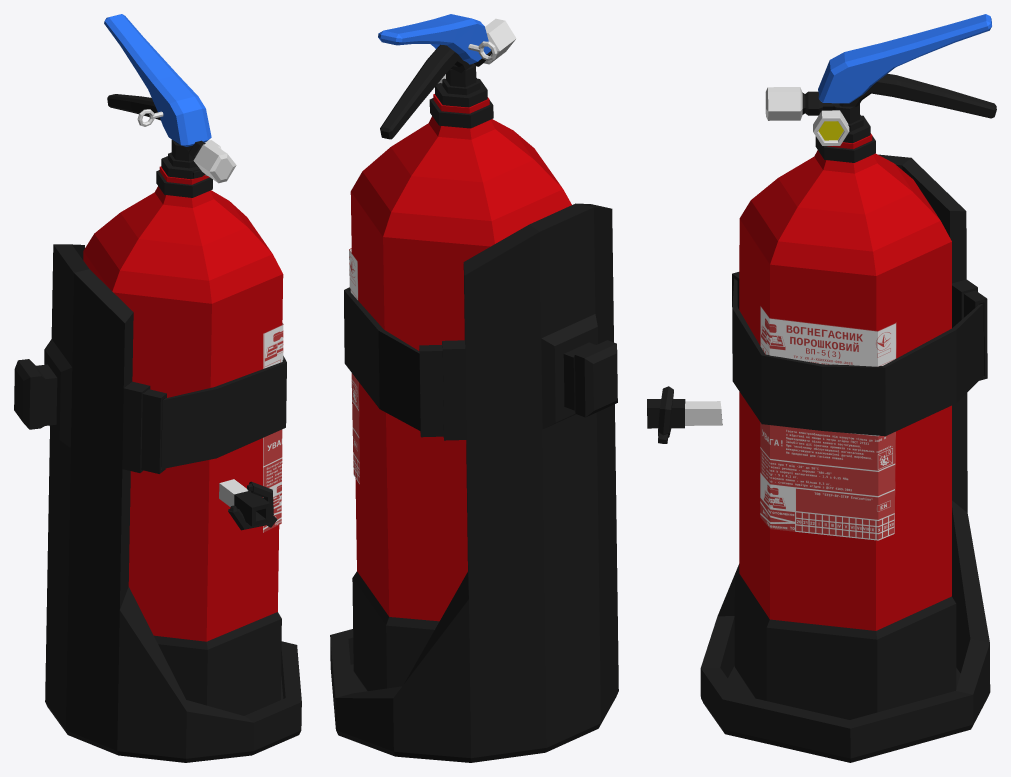
The picture shows the model from 3 angles, left to right: view 1: azimuth 30°, elevation 25°; view 2: azimuth 150°, elevation 25°; view 3: azimuth 270°, elevation 25°; orthographic projection. The views are drawn at different scales.
Visible parts, largest first — view 1: ExtinguisherHolder, Extinguisher, Handle, sticker, HoseEnd; view 2: ExtinguisherHolder, Extinguisher, Handle, sticker; view 3: Extinguisher, ExtinguisherHolder, sticker, Handle, HoseEnd.
Boxes of the visible parts, x1=… form: ExtinguisherHolder: x1=14, y1=244, x2=301, y2=762; Extinguisher: x1=83, y1=94, x2=283, y2=715; Handle: x1=104, y1=14, x2=211, y2=146; sticker: x1=263, y1=323, x2=283, y2=532; HoseEnd: x1=219, y1=479, x2=277, y2=530; ExtinguisherHolder: x1=330, y1=203, x2=618, y2=762; Extinguisher: x1=350, y1=18, x2=571, y2=691; Handle: x1=378, y1=14, x2=490, y2=64; sticker: x1=349, y1=248, x2=359, y2=484; Extinguisher: x1=734, y1=73, x2=996, y2=719; ExtinguisherHolder: x1=700, y1=154, x2=990, y2=762; sticker: x1=760, y1=306, x2=896, y2=540; Handle: x1=818, y1=14, x2=991, y2=103; HoseEnd: x1=647, y1=386, x2=722, y2=443.
Size of the model in its own units: 1.6 by 3.73 by 1.72.
11 materials, 1 textured.
